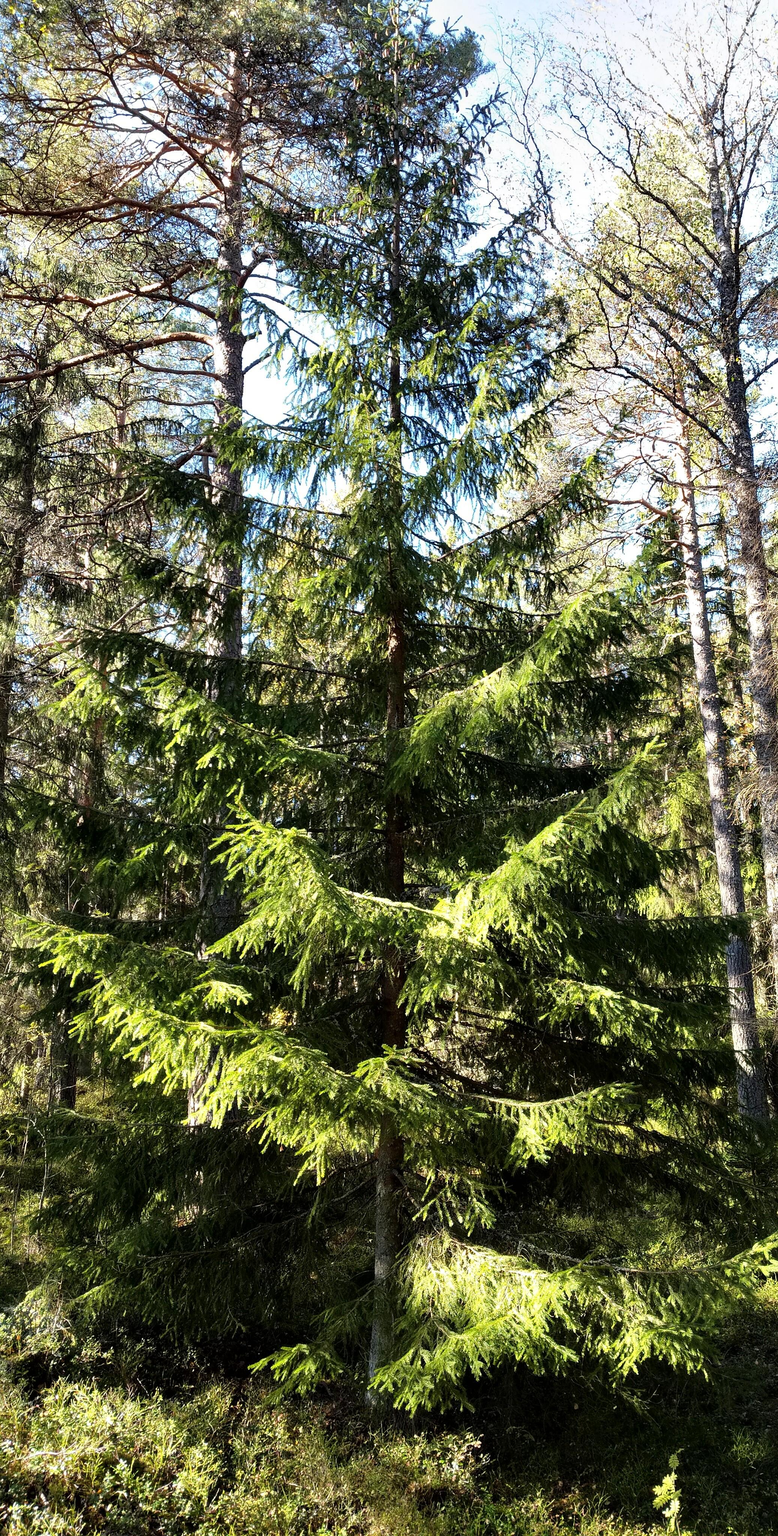Spruce: (57, 349, 680, 1536)
